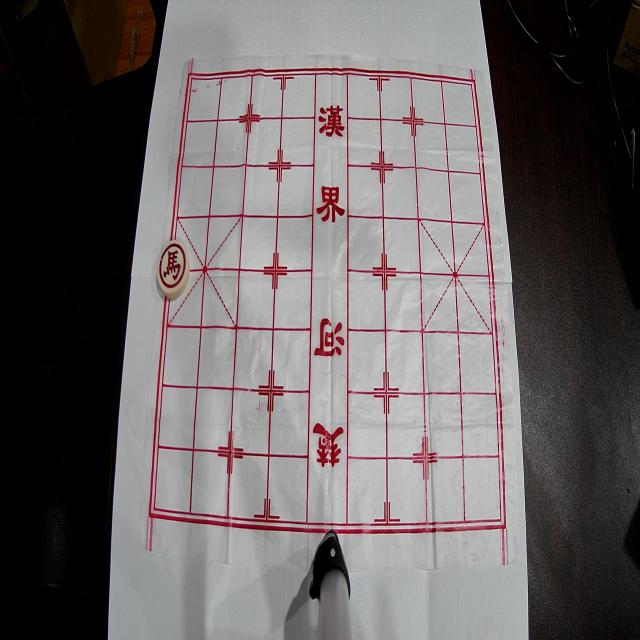red-horse: (158, 240, 190, 300)
